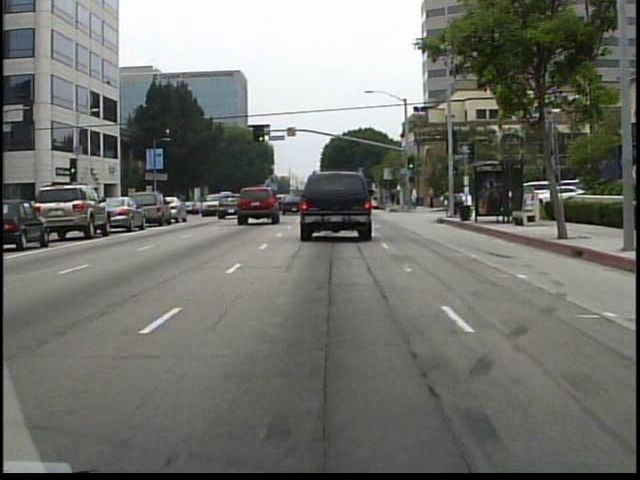person: (408, 184, 421, 213), (426, 181, 437, 212), (389, 185, 399, 209)
